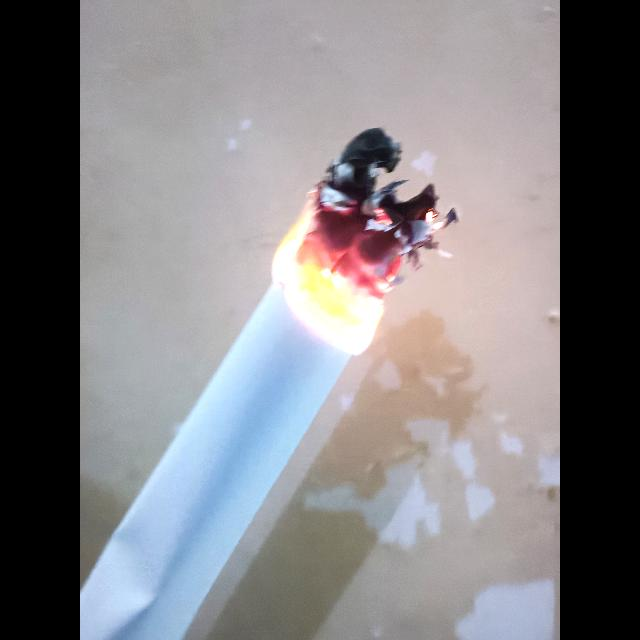fire: (272, 128, 457, 352)
